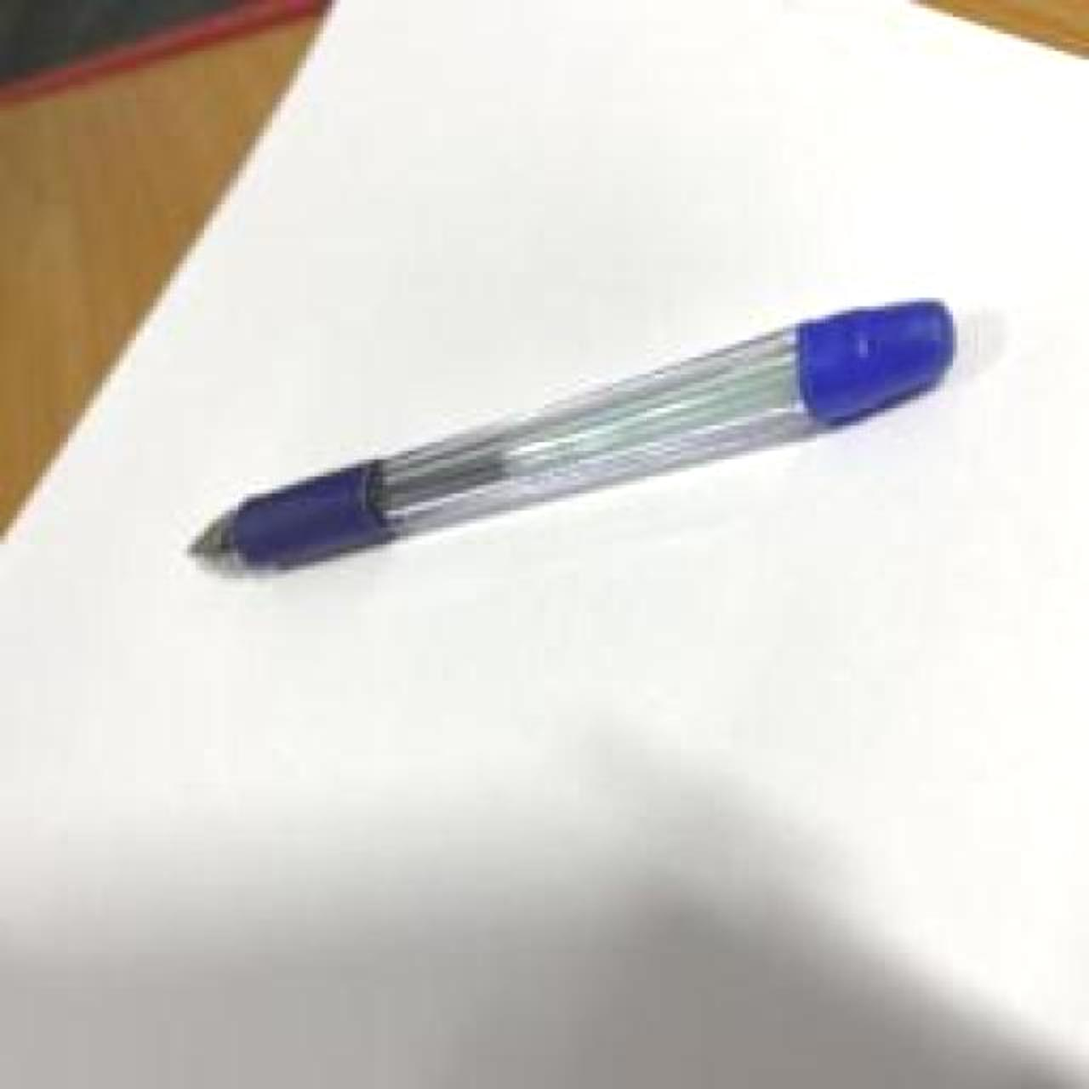pen: (182, 281, 961, 587)
